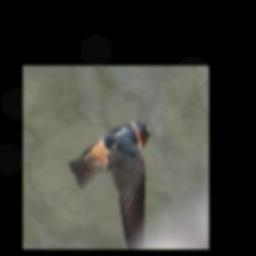Swallow: (68, 115, 153, 249)
